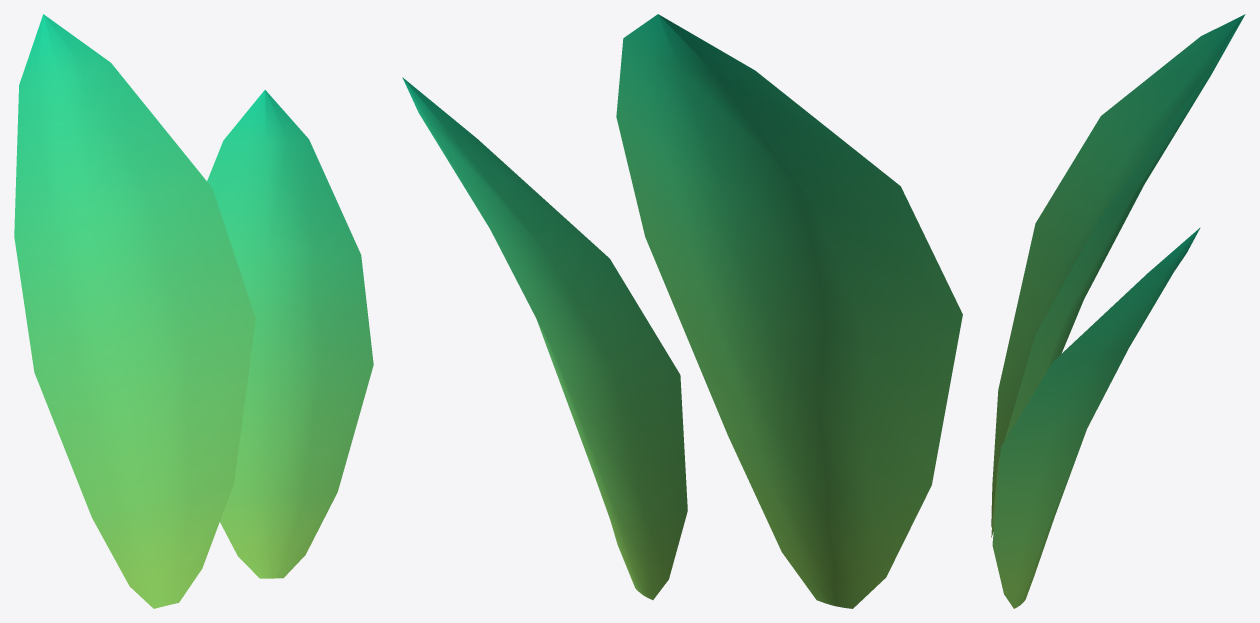
File: Grass.fbx
3 renders of one model, left to right at view 1: azimuth 30°, elevation 25°; view 2: azimuth 150°, elevation 25°; view 3: azimuth 270°, elevation 25°, orthographic. The views are drawn at different scales.
Parts seen in each view (by area): view 1: Leafs; view 2: Leafs; view 3: Leafs.
Boxes of the visible parts, x1,y1,x2,y2 form: Leafs: [14, 14, 373, 608]; Leafs: [402, 14, 962, 608]; Leafs: [991, 14, 1245, 608].
Size of the model in its own units: 38.08 by 55.78 by 24.22.
Materials: 1 (1 with a texture image).
